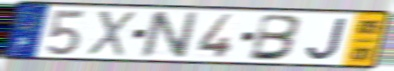4: (194, 12, 235, 60)
5: (43, 7, 90, 57)
B: (246, 13, 304, 63)
J: (304, 16, 349, 61)
N: (138, 10, 201, 60)
X: (85, 9, 137, 58)
